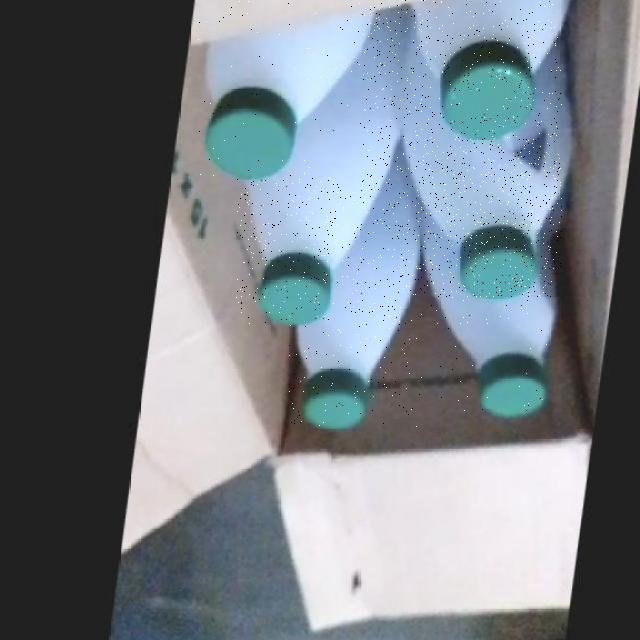plastic: (237, 1, 401, 325), (394, 36, 562, 297), (289, 133, 417, 428), (194, 4, 363, 178), (413, 200, 550, 413), (400, 0, 555, 136)
